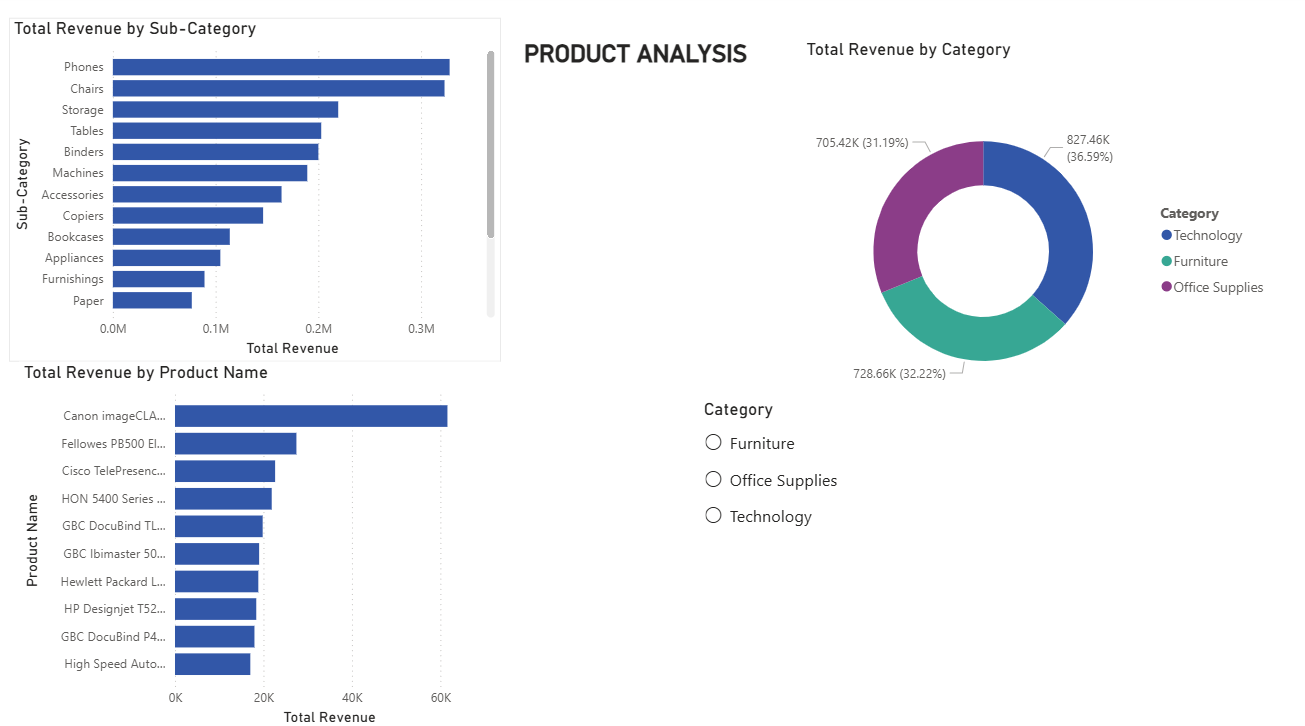

Layout of this report page (visuals, bound fields, positions):
{"tool":"powerbi","page":{"name":"Product Analysis","canvas":[1280,720],"ordinal":2},"visuals":[{"type":"clusteredBarChart","fields":{"Category":["train.Sub-Category"],"Y":["Date Table.Total Revenue"]},"box":[9.6,0,480.3,336.2],"z":0},{"type":"donutChart","fields":{"Category":["train.Category"],"Y":["Date Table.Total Revenue"]},"box":[791.8,0,465.2,396.6],"z":1000},{"type":"clusteredBarChart","fields":{"Category":["train.Product Name"],"Y":["Date Table.Total Revenue"]},"box":[19.2,359.5,470.7,360.9],"z":2000},{"type":"listSlicer","fields":{"Values":["train.Category"]},"box":[791.8,396.6,279.9,323.8],"z":3000},{"type":"textbox","title":"PRODUCT ANALYSIS","box":[509.1,43.9,260.7,63.1],"z":3001}]}

Visuals, with their boxes in screenshot pixels (x1, y1, x2, y2), scaled from the page's 1280x720 canvas onto the 1305x726 screenshot:
clusteredBarChart - train.Sub-Category x Date Table.Total Revenue: pyautogui.locateOnScreen(10, 0, 499, 339)
donutChart - train.Category x Date Table.Total Revenue: pyautogui.locateOnScreen(807, 0, 1282, 400)
clusteredBarChart - train.Product Name x Date Table.Total Revenue: pyautogui.locateOnScreen(20, 362, 499, 725)
listSlicer - train.Category: pyautogui.locateOnScreen(807, 400, 1093, 725)
"PRODUCT ANALYSIS" textbox: pyautogui.locateOnScreen(519, 44, 785, 108)
